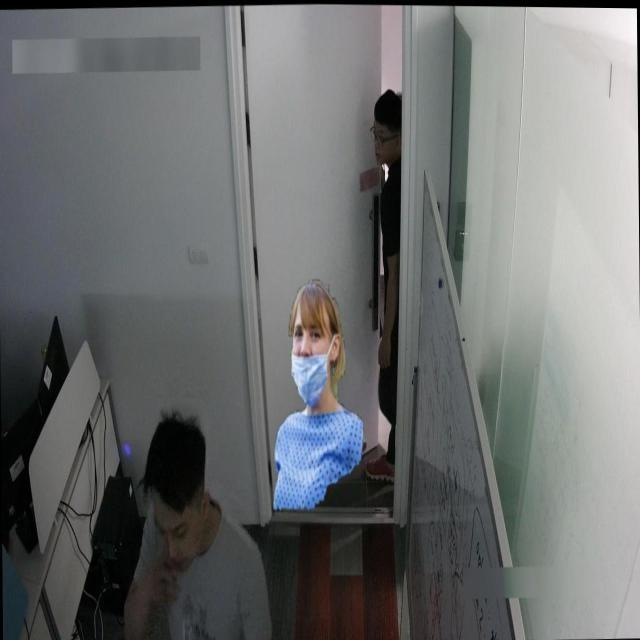hairnet: (288, 318, 330, 405)
